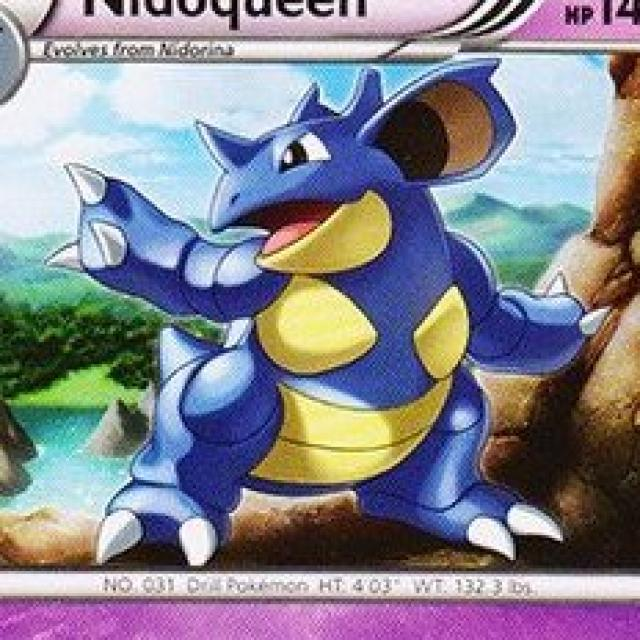Nidoqueen: (124, 67, 543, 525)
